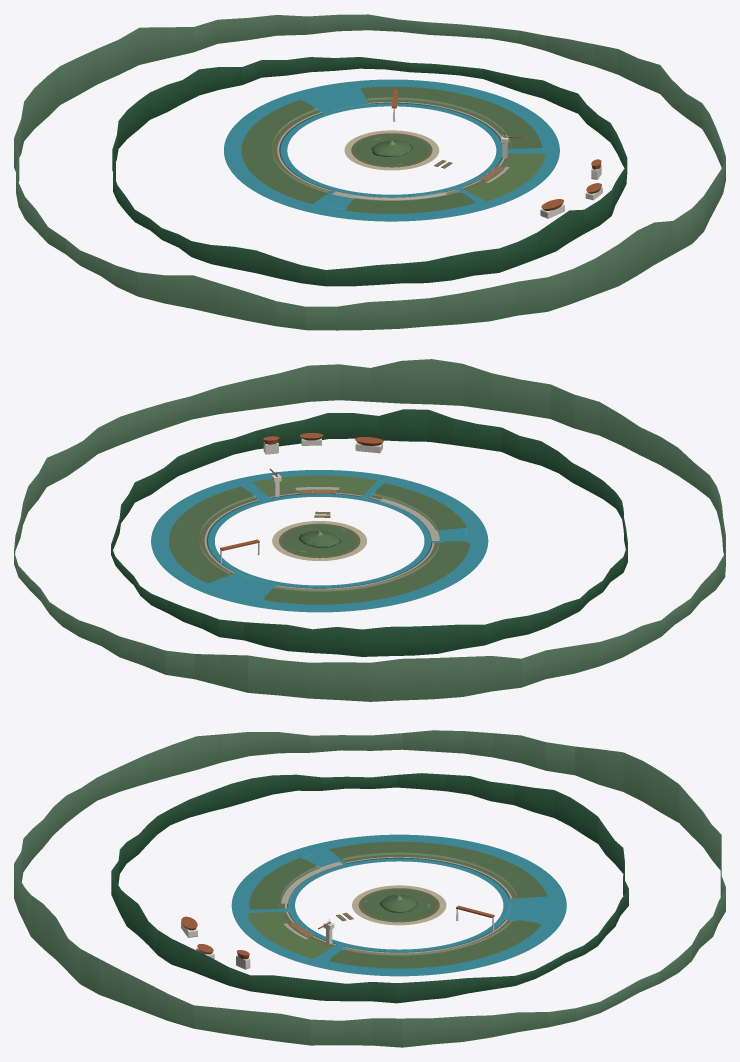
The model's file is rowplay-venue-rower-high.glb.
3 views of the same model, one above another, from view 1: azimuth 30°, elevation 25°; view 2: azimuth 150°, elevation 25°; view 3: azimuth 270°, elevation 25° (orthographic).
Parts seen in each view (by area): view 1: environment:rower:horizon-far, environment:rower:horizon-mid, environment:rower:apron, environment:rower:bank-terrace-3, environment:rower:bank-terrace-2, environment:rower:bank-terrace-4, environment:rower:island-lawn, environment:rower:grass-bank-3, environment:rower:bank-terrace-1, environment:rower:grass-bank-2, environment:rower:island-beach, environment:rower:grass-bank-1 (+1 smaller); view 2: environment:rower:horizon-far, environment:rower:horizon-mid, environment:rower:apron, environment:rower:bank-terrace-3, environment:rower:bank-terrace-2, environment:rower:island-lawn, environment:rower:grass-bank-3, environment:rower:bank-terrace-4, environment:rower:bank-terrace-1, environment:rower:grass-bank-2, environment:rower:island-beach, environment:rower:grass-bank-1; view 3: environment:rower:horizon-far, environment:rower:horizon-mid, environment:rower:apron, environment:rower:bank-terrace-3, environment:rower:bank-terrace-2, environment:rower:bank-terrace-4, environment:rower:island-lawn, environment:rower:grass-bank-2, environment:rower:grass-bank-3, environment:rower:bank-terrace-1, environment:rower:island-beach, environment:rower:grass-bank-1 (+1 smaller).
Boxes of the visible parts, box(x1,y1,x2,y2) form: environment:rower:horizon-far: box(14, 14, 725, 330); environment:rower:horizon-mid: box(112, 57, 627, 286); environment:rower:apron: box(224, 79, 559, 221); environment:rower:bank-terrace-3: box(244, 100, 324, 201); environment:rower:bank-terrace-2: box(361, 86, 538, 146); environment:rower:bank-terrace-4: box(469, 153, 543, 199); environment:rower:island-lawn: box(355, 134, 428, 165); environment:rower:grass-bank-3: box(241, 101, 328, 203); environment:rower:bank-terrace-1: box(346, 192, 473, 210); environment:rower:grass-bank-2: box(360, 88, 541, 148); environment:rower:island-beach: box(344, 130, 439, 170); environment:rower:grass-bank-1: box(346, 192, 475, 213); environment:rower:horizon-far: box(14, 359, 725, 701); environment:rower:horizon-mid: box(111, 409, 627, 656); environment:rower:apron: box(151, 470, 488, 612); environment:rower:bank-terrace-3: box(264, 541, 467, 601); environment:rower:bank-terrace-2: box(172, 486, 252, 580); environment:rower:island-lawn: box(282, 525, 356, 556); environment:rower:grass-bank-3: box(263, 542, 470, 604); environment:rower:bank-terrace-4: box(253, 475, 376, 491); environment:rower:bank-terrace-1: box(375, 483, 463, 528); environment:rower:grass-bank-2: box(169, 489, 255, 583); environment:rower:island-beach: box(272, 521, 366, 560); environment:rower:grass-bank-1: box(372, 490, 466, 530); environment:rower:horizon-far: box(14, 730, 725, 1047); environment:rower:horizon-mid: box(111, 773, 628, 1003); environment:rower:apron: box(231, 834, 566, 976); environment:rower:bank-terrace-3: box(331, 841, 544, 896); environment:rower:bank-terrace-2: box(330, 920, 538, 965); environment:rower:bank-terrace-4: box(249, 911, 328, 957); environment:rower:island-lawn: box(362, 889, 435, 920); environment:rower:grass-bank-2: box(329, 920, 541, 968); environment:rower:grass-bank-3: box(329, 849, 547, 898); environment:rower:bank-terrace-1: box(252, 858, 315, 907); environment:rower:island-beach: box(352, 885, 446, 925); environment:rower:grass-bank-1: box(249, 858, 319, 909).
Size of the model in its own units: 231 by 16.33 by 234.
